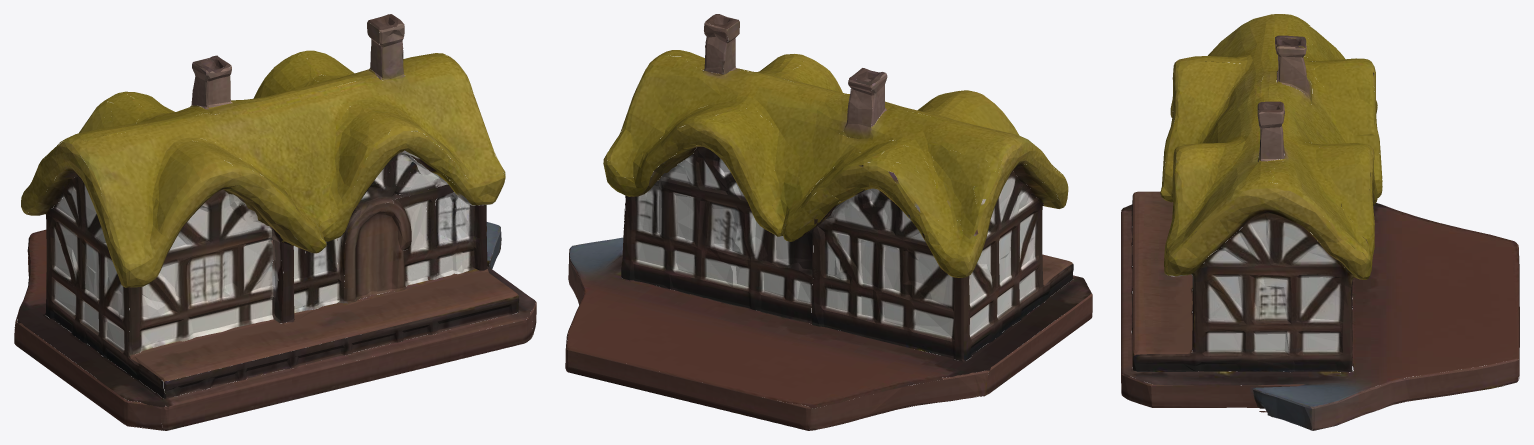
Rendered from 16_elf_mushroom_cottage.glb.
3 views of the same model, side by side, from view 1: azimuth 30°, elevation 25°; view 2: azimuth 150°, elevation 25°; view 3: azimuth 270°, elevation 25° (orthographic). The views are drawn at different scales.
Visible parts, largest first — view 1: 16_elf_mushroom_cottage.ply; view 2: 16_elf_mushroom_cottage.ply; view 3: 16_elf_mushroom_cottage.ply.
Part boxes in pixels (<box>): 16_elf_mushroom_cottage.ply: <box>14,14,536,430</box>; 16_elf_mushroom_cottage.ply: <box>565,14,1092,430</box>; 16_elf_mushroom_cottage.ply: <box>1121,14,1519,430</box>.
Bounding box in the file's own units: 0.9998 × 0.5822 × 0.7978.
1 material, 1 textured.
